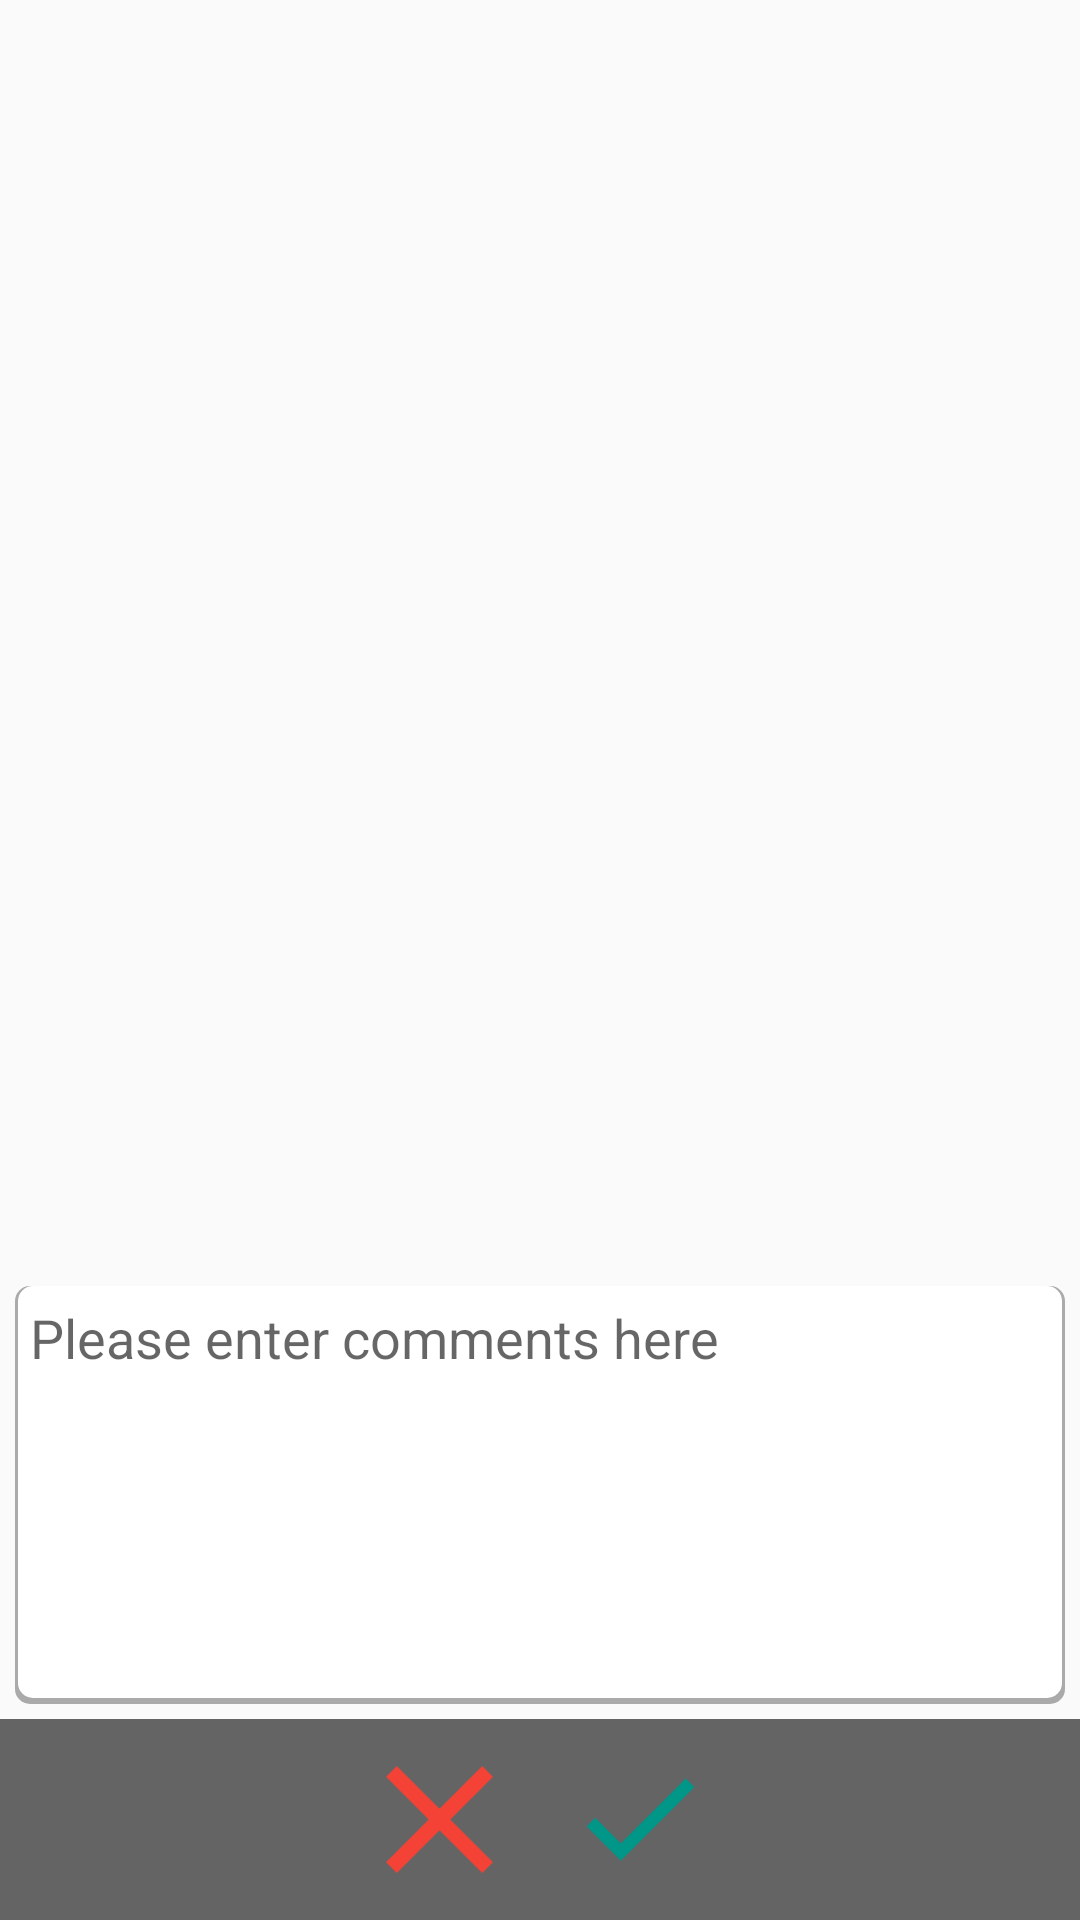

Where to tap for icons on this 1080×1920 app screen, as (x,y):
check: (640,1819)
close: (439,1819)
